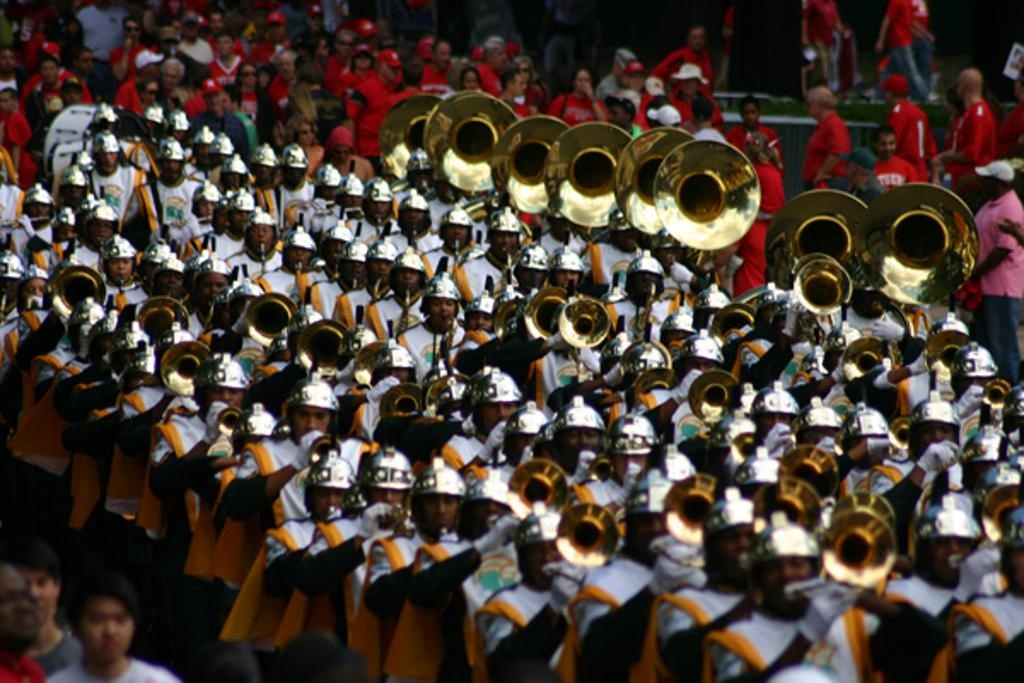human_face: (82, 596, 132, 660), (762, 557, 812, 613), (713, 526, 763, 580), (0, 569, 36, 641), (10, 568, 54, 624), (931, 530, 975, 582), (632, 511, 674, 558), (522, 540, 562, 586), (421, 487, 459, 534), (290, 403, 330, 447), (472, 496, 508, 542), (916, 422, 954, 464), (206, 382, 242, 426), (508, 428, 548, 466), (370, 482, 406, 524), (802, 423, 838, 463), (96, 333, 132, 371), (312, 484, 348, 522), (564, 424, 598, 464), (480, 402, 518, 436), (850, 432, 886, 466), (958, 373, 994, 407), (616, 446, 648, 482), (198, 273, 228, 311), (72, 320, 102, 358), (292, 328, 322, 366), (760, 411, 790, 443), (688, 354, 718, 386), (856, 285, 886, 315), (392, 265, 420, 297), (606, 355, 634, 387), (234, 296, 260, 330), (23, 278, 49, 310), (247, 221, 273, 253), (368, 255, 394, 287), (428, 296, 454, 328), (382, 364, 408, 396), (156, 270, 182, 300), (632, 269, 658, 299), (108, 254, 132, 284), (832, 350, 858, 376), (343, 256, 367, 284), (667, 327, 691, 355), (468, 310, 492, 336), (554, 266, 578, 292), (90, 217, 112, 245), (495, 231, 517, 258), (519, 264, 543, 288), (400, 206, 424, 230), (366, 195, 390, 218), (0, 274, 19, 302), (288, 245, 310, 269), (660, 243, 682, 266), (444, 225, 466, 247), (777, 314, 799, 336), (28, 198, 48, 222), (330, 239, 348, 265), (160, 157, 180, 179), (342, 192, 362, 214), (614, 226, 634, 248), (98, 148, 116, 172), (876, 134, 894, 158), (56, 222, 76, 243), (62, 184, 82, 205), (436, 178, 456, 199), (198, 198, 216, 220), (284, 162, 302, 184), (320, 182, 338, 204), (694, 108, 712, 130), (217, 206, 233, 230), (982, 173, 998, 196), (232, 208, 250, 228), (412, 168, 430, 188), (278, 56, 294, 78), (338, 34, 354, 56), (490, 47, 506, 69), (608, 104, 624, 126), (62, 88, 80, 107), (41, 63, 57, 83), (163, 68, 179, 88), (241, 66, 257, 86), (224, 170, 240, 190), (312, 40, 328, 60), (436, 44, 450, 66), (957, 77, 971, 99), (296, 125, 312, 144), (550, 213, 566, 232), (216, 36, 232, 54), (256, 160, 272, 178), (333, 146, 349, 164), (269, 22, 285, 40), (689, 30, 705, 48), (762, 303, 778, 321), (162, 36, 178, 54), (0, 51, 14, 71), (78, 53, 92, 73), (382, 61, 396, 81), (511, 74, 525, 94), (845, 160, 859, 180), (680, 76, 696, 93), (1012, 74, 1024, 96), (125, 24, 141, 40), (196, 141, 212, 157), (212, 152, 228, 168), (356, 52, 372, 68), (210, 15, 224, 33), (206, 89, 218, 110), (514, 63, 528, 81), (628, 72, 642, 90), (742, 105, 756, 123), (946, 93, 958, 114), (464, 72, 476, 92), (576, 72, 588, 92), (144, 84, 158, 101), (221, 91, 233, 110), (184, 20, 198, 36), (308, 13, 322, 29), (360, 34, 376, 48), (147, 60, 159, 78), (258, 69, 270, 87), (0, 93, 11, 112), (807, 98, 819, 115), (146, 120, 160, 134), (170, 125, 182, 140), (884, 89, 894, 104), (255, 12, 267, 24)
